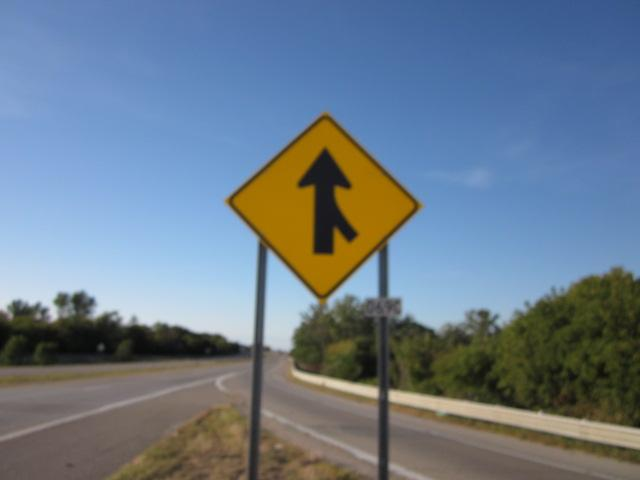warning: (217, 111, 425, 304)
